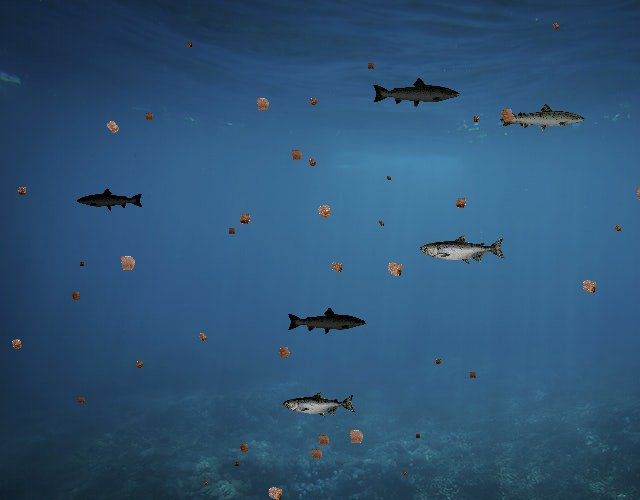Fish: (372, 77, 462, 109), (500, 102, 586, 133), (420, 234, 506, 265), (287, 306, 368, 335), (284, 392, 357, 418), (77, 188, 145, 212), (499, 111, 546, 128)
Pellet: (112, 248, 142, 278), (249, 90, 276, 117), (5, 333, 28, 355), (233, 208, 256, 230), (386, 260, 404, 278), (363, 59, 378, 73), (432, 356, 445, 369), (183, 38, 196, 51), (200, 478, 210, 488)
